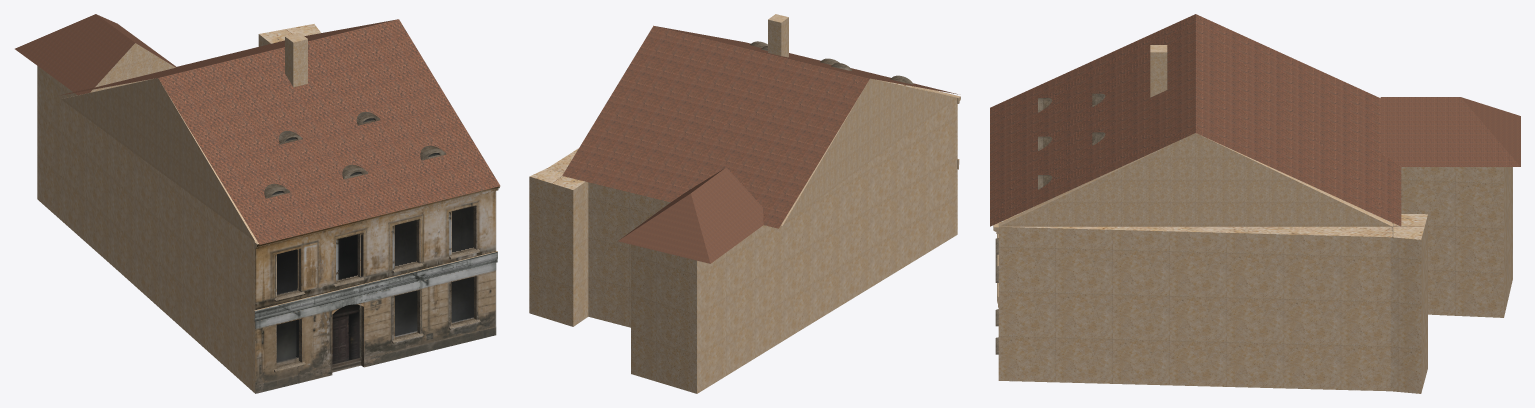
The model's file is cp111_study.glb.
3 views of the same model, side by side, from view 1: azimuth 30°, elevation 25°; view 2: azimuth 150°, elevation 25°; view 3: azimuth 270°, elevation 25° (orthographic). The views are drawn at different scales.
Visible parts, largest first — view 1: CP_111_Masonry, CP_111_Roof, CP_111_Gable_L_gable, CP_111_WingRoof_Rear_Wing, CP_111_Cornice_sign_band_0, CP_111_Chimney_0, CP_111_Cornice_eave_0; view 2: CP_111_Masonry, CP_111_Roof, CP_111_Gable_L_gable, CP_111_WingRoof_Rear_Wing, CP_111_Chimney_0; view 3: CP_111_Masonry, CP_111_Roof, CP_111_Gable_R_gable, CP_111_WingRoof_Rear_Wing, CP_111_Chimney_0.
Boxes of the visible parts, <box> form: CP_111_Masonry: <box>37,24,496,393</box>; CP_111_Roof: <box>58,19,500,244</box>; CP_111_Gable_L_gable: <box>61,78,256,241</box>; CP_111_WingRoof_Rear_Wing: <box>15,14,176,95</box>; CP_111_Cornice_sign_band_0: <box>254,251,497,321</box>; CP_111_Chimney_0: <box>285,33,307,87</box>; CP_111_Cornice_eave_0: <box>254,186,499,249</box>; CP_111_Masonry: <box>529,79,957,393</box>; CP_111_Roof: <box>562,25,957,228</box>; CP_111_Gable_L_gable: <box>781,78,957,225</box>; CP_111_WingRoof_Rear_Wing: <box>618,167,763,263</box>; CP_111_Chimney_0: <box>768,14,788,57</box>; CP_111_Masonry: <box>998,167,1512,393</box>; CP_111_Roof: <box>990,14,1401,226</box>; CP_111_Gable_R_gable: <box>998,133,1392,226</box>; CP_111_WingRoof_Rear_Wing: <box>1380,97,1520,166</box>; CP_111_Chimney_0: <box>1150,45,1167,97</box>.
Bounding box in the file's own units: 12.74 × 12.2 × 21.55.
44 materials, 44 textured.
